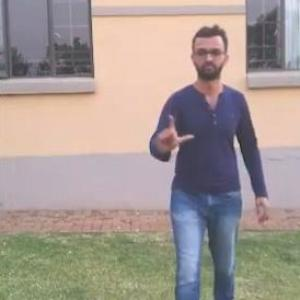land_hand: (151, 113, 197, 151)
